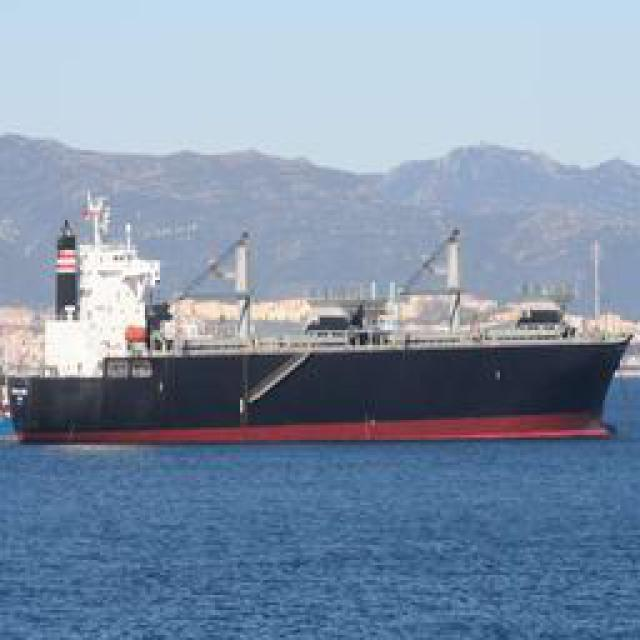Ship: (21, 206, 626, 444)
